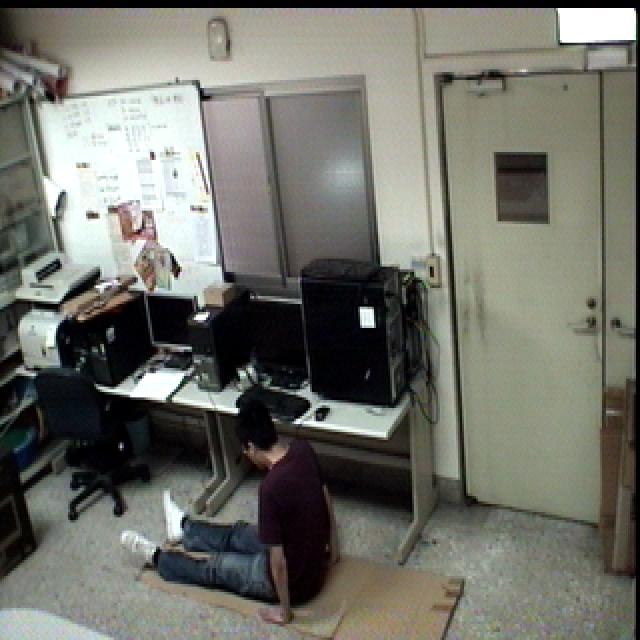sit: (115, 394, 345, 632)
